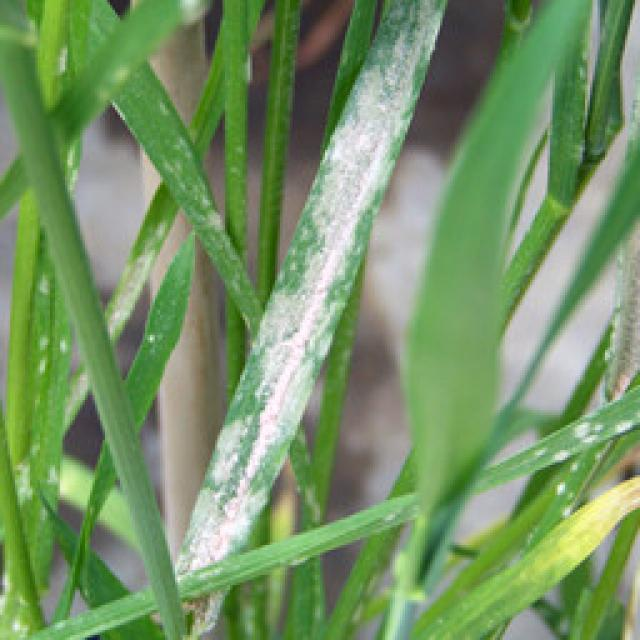wheat-powdery-mildew: (174, 0, 448, 579)
